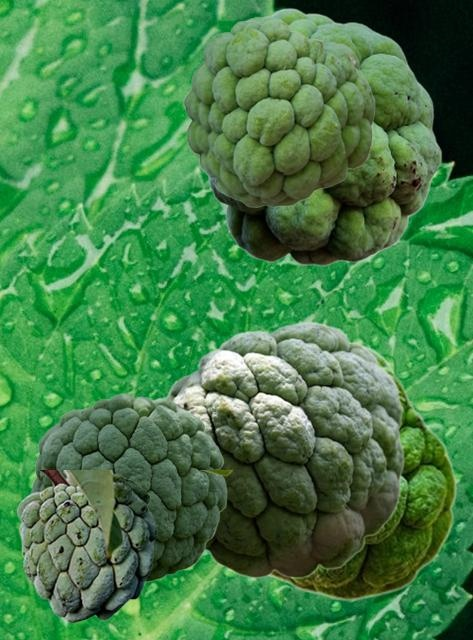atis: (164, 321, 404, 578), (205, 7, 441, 266), (267, 340, 456, 600), (30, 393, 226, 581), (183, 20, 374, 206), (16, 470, 231, 622)
